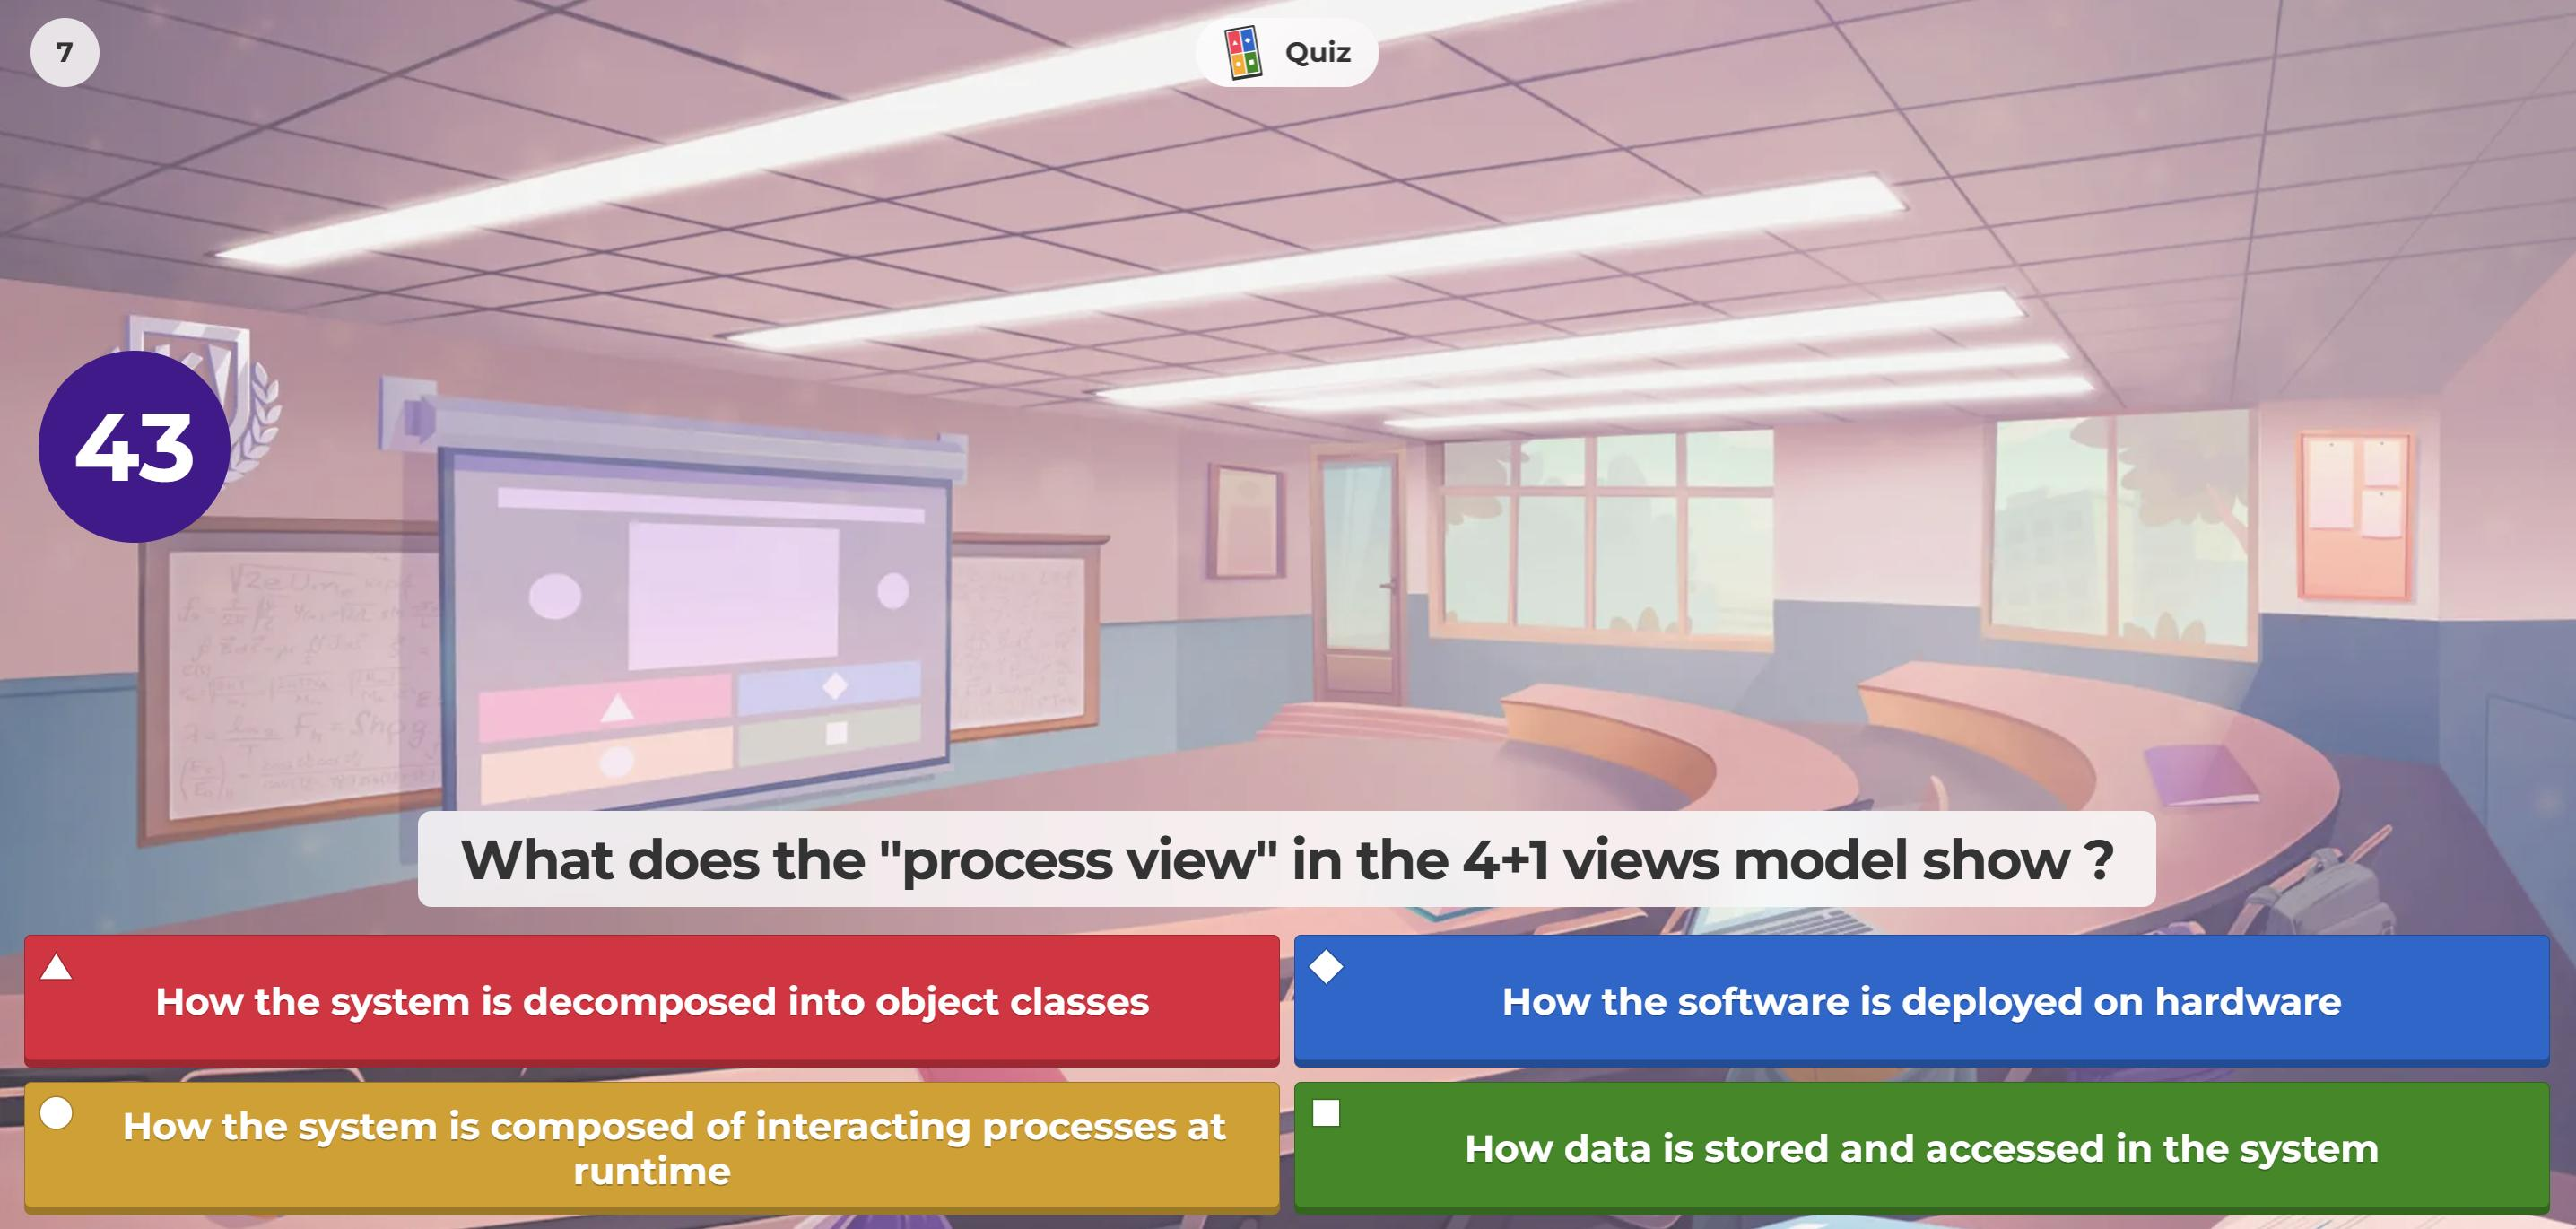answer_blue: (1303, 935, 2548, 1055)
answer_green: (1296, 1088, 2543, 1199)
answer_red: (26, 932, 1277, 1065)
answer_yellow: (23, 1084, 1278, 1206)
question_box: (421, 805, 2157, 905)
